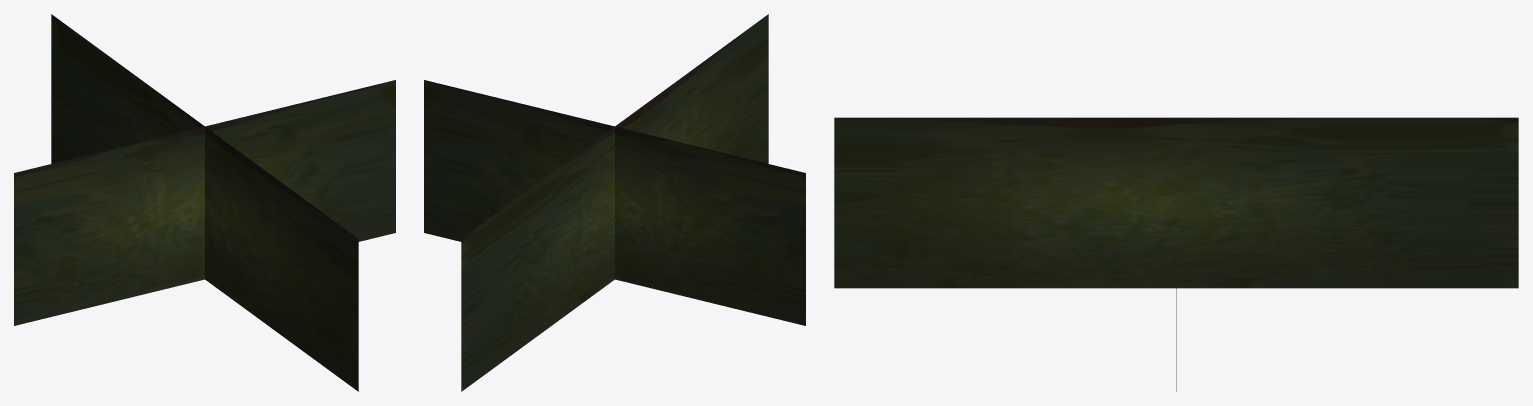
The model's file is PW_FOC_ToadRush_Billboard.fbx.
3 renders of one model, left to right at view 1: azimuth 30°, elevation 25°; view 2: azimuth 150°, elevation 25°; view 3: azimuth 270°, elevation 25°, orthographic. The views are drawn at different scales.
Parts seen in each view (by area): view 1: PW_FOC_ToadRush_Billboard; view 2: PW_FOC_ToadRush_Billboard; view 3: PW_FOC_ToadRush_Billboard.
Boxes of the visible parts, <box> form: PW_FOC_ToadRush_Billboard: <box>14,14,395,391</box>; PW_FOC_ToadRush_Billboard: <box>424,14,805,391</box>; PW_FOC_ToadRush_Billboard: <box>834,117,1518,391</box>.
Size of the model in its own units: 0.5392 by 0.2065 by 0.7517.
